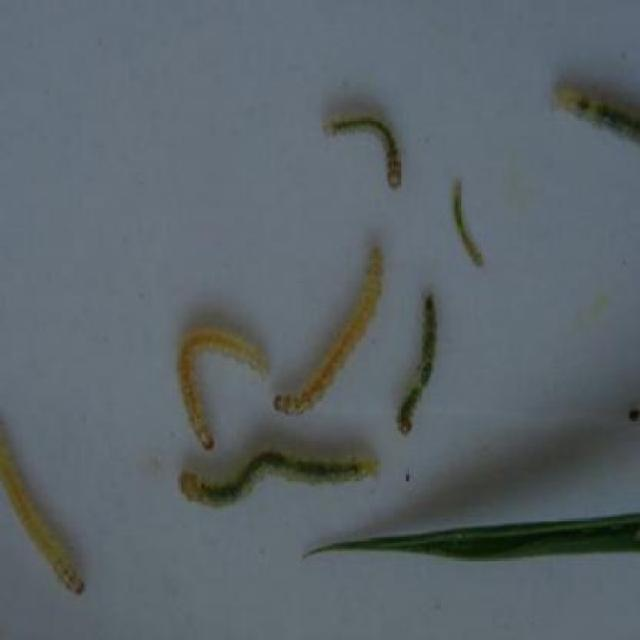leaf-folder: (272, 233, 388, 422), (156, 305, 272, 461), (182, 440, 381, 529), (0, 404, 86, 593), (398, 282, 454, 448), (321, 101, 410, 201), (538, 70, 640, 145), (443, 164, 500, 278)
